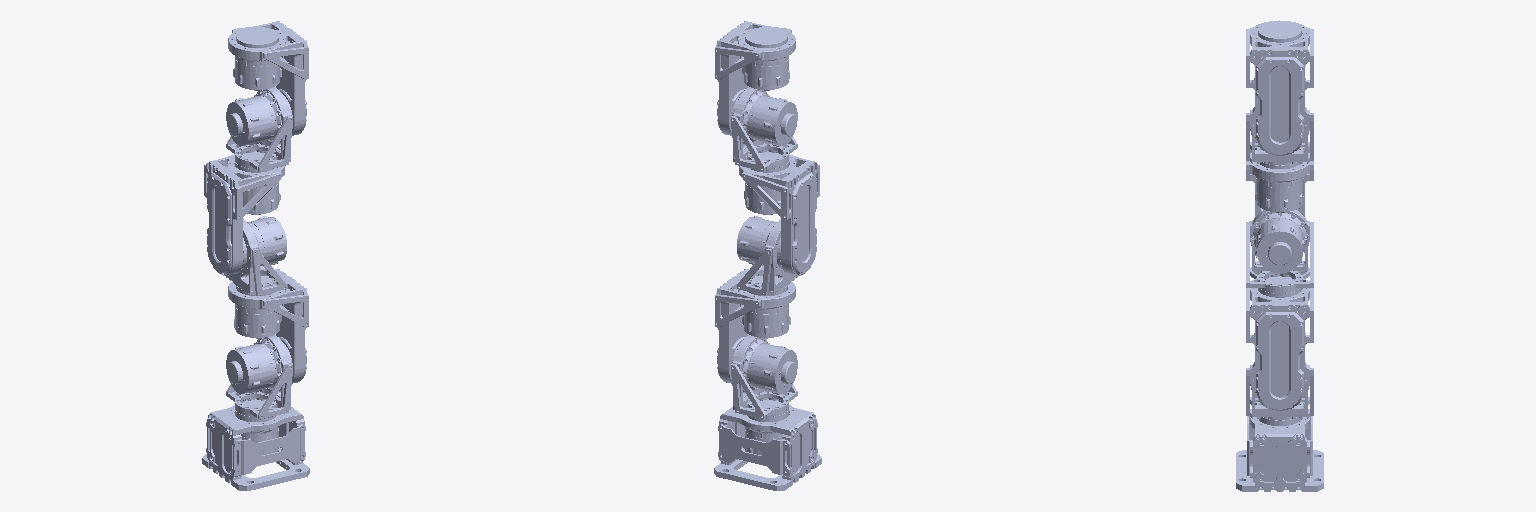
The robot description file, URDF, robot "robot_arm":
<?xml version="1.0" encoding="utf-8"?>
<!-- This URDF was automatically created by SolidWorks to URDF Exporter! Originally created by [author] ([email redacted]) 
     Commit Version: 1.6.0-4-g7f85cfe  Build Version: 1.6.7995.38578
     For more information, please see http://wiki.ros.org/sw_urdf_exporter -->
<robot
  name="robot_arm">
  <link
    name="base_link">
    <inertial>
      <origin
        xyz="0.069162 0.065135 0.20892"
        rpy="0 0 0" />
      <mass
        value="0.66309" />
      <inertia
        ixx="0.00073203"
        ixy="1.8952E-15"
        ixz="-5.1066E-10"
        iyy="0.00085803"
        iyz="-1.0534E-15"
        izz="0.00078139" />
    </inertial>
    <visual>
      <origin
        xyz="0 0 0"
        rpy="0 0 0" />
      <geometry>
        <mesh
          filename="package://robot_arm/meshes/base_link.STL" />
      </geometry>
      <material
        name="">
        <color
          rgba="0.79216 0.81961 0.93333 1" />
      </material>
    </visual>
    <collision>
      <origin
        xyz="0 0 0"
        rpy="0 0 0" />
      <geometry>
        <mesh
          filename="package://robot_arm/meshes/base_link.STL" />
      </geometry>
    </collision>
  </link>
  <link
    name="link_1">
    <inertial>
      <origin
        xyz="0.0076561 0.06612 -1.5266E-07"
        rpy="0 0 0" />
      <mass
        value="0.44894" />
      <inertia
        ixx="0.00037455"
        ixy="-6.3658E-06"
        ixz="-6.4411E-14"
        iyy="0.00040652"
        iyz="-1.7327E-09"
        izz="0.0004125" />
    </inertial>
    <visual>
      <origin
        xyz="0 0 0"
        rpy="0 0 0" />
      <geometry>
        <mesh
          filename="package://robot_arm/meshes/link_1.STL" />
      </geometry>
      <material
        name="">
        <color
          rgba="0.79216 0.81961 0.93333 1" />
      </material>
    </visual>
    <collision>
      <origin
        xyz="0 0 0"
        rpy="0 0 0" />
      <geometry>
        <mesh
          filename="package://robot_arm/meshes/link_1.STL" />
      </geometry>
    </collision>
  </link>
  <joint
    name="joint_1"
    type="revolute">
    <origin
      xyz="0.069162 -0.20892 0.11841"
      rpy="1.5708 0 0" />
    <parent
      link="base_link" />
    <child
      link="link_1" />
    <axis
      xyz="0 1 0" />
    <limit
      lower="-3.1415926"
      upper="3.1415926"
      effort="50.0"
      velocity="10.0" />
  </joint>
  <link
    name="link_2">
    <inertial>
      <origin
        xyz="0.021945 0.098953 -7.9847E-08"
        rpy="0 0 0" />
      <mass
        value="0.58247" />
      <inertia
        ixx="0.00091809"
        ixy="-5.3857E-06"
        ixz="2.5866E-09"
        iyy="0.00047586"
        iyz="4.2711E-11"
        izz="0.00083079" />
    </inertial>
    <visual>
      <origin
        xyz="0 0 0"
        rpy="0 0 0" />
      <geometry>
        <mesh
          filename="package://robot_arm/meshes/link_2.STL" />
      </geometry>
      <material
        name="">
        <color
          rgba="0.79216 0.81961 0.93333 1" />
      </material>
    </visual>
    <collision>
      <origin
        xyz="0 0 0"
        rpy="0 0 0" />
      <geometry>
        <mesh
          filename="package://robot_arm/meshes/link_2.STL" />
      </geometry>
    </collision>
  </link>
  <joint
    name="joint_2"
    type="revolute">
    <origin
      xyz="0 0.073 0"
      rpy="0 0 0" />
    <parent
      link="link_1" />
    <child
      link="link_2" />
    <axis
      xyz="1 0 0" />
    <limit
      lower="-3.1415926"
      upper="3.1415926"
      effort="50.0"
      velocity="10.0" />
  </joint>
 
  <link
    name="link_3">
    <inertial>
      <origin
        xyz="-0.0076561 0.071348 1.2211E-07"
        rpy="0 0 0" />
      <mass
        value="0.44894" />
      <inertia
        ixx="0.00037455"
        ixy="6.3658E-06"
        ixz="-6.2902E-14"
        iyy="0.00040652"
        iyz="-2.591E-09"
        izz="0.0004125" />
    </inertial>
    <visual>
      <origin
        xyz="0 0 0"
        rpy="0 0 0" />
      <geometry>
        <mesh
          filename="package://robot_arm/meshes/link_3.STL" />
      </geometry>
      <material
        name="">
        <color
          rgba="0.79216 0.81961 0.93333 1" />
      </material>
    </visual>
    <collision>
      <origin
        xyz="0 0 0"
        rpy="0 0 0" />
      <geometry>
        <mesh
          filename="package://robot_arm/meshes/link_3.STL" />
      </geometry>
    </collision>
  </link>
  <joint
    name="joint_3"
    type="revolute">
    <origin
      xyz="0.003 0.14577 0"
      rpy="0 0 0" />
    <parent
      link="link_2" />
    <child
      link="link_3" />
    <axis
      xyz="0 1 0" />
    <limit
      lower="-3.1415926"
      upper="3.1415926"
      effort="50.0"
      velocity="10.0" />
  </joint>
  <link
    name="link_4">
    <inertial>
      <origin
        xyz="-0.021945 0.098953 -4.2218E-08"
        rpy="0 0 0" />
      <mass
        value="0.58247" />
      <inertia
        ixx="0.00091809"
        ixy="5.3857E-06"
        ixz="-1.7371E-09"
        iyy="0.00047586"
        iyz="-4.2713E-11"
        izz="0.00083079" />
    </inertial>
    <visual>
      <origin
        xyz="0 0 0"
        rpy="0 0 0" />
      <geometry>
        <mesh
          filename="package://robot_arm/meshes/link_4.STL" />
      </geometry>
      <material
        name="">
        <color
          rgba="0.79216 0.81961 0.93333 1" />
      </material>
    </visual>
    <collision>
      <origin
        xyz="0 0 0"
        rpy="0 0 0" />
      <geometry>
        <mesh
          filename="package://robot_arm/meshes/link_4.STL" />
      </geometry>
    </collision>
  </link>
  <joint
    name="joint_4"
    type="revolute">
    <origin
      xyz="0 0.078228 0"
      rpy="0 0 0" />
    <parent
      link="link_3" />
    <child
      link="link_4" />
    <axis
      xyz="1 0 0" />
    <limit
      lower="-3.1415926"
      upper="3.1415926"
      effort="50.0"
      velocity="10.0" />
  </joint>
  <link
    name="link_5">
    <inertial>
      <origin
        xyz="0.0076561 0.06612 -1.5266E-07"
        rpy="0 0 0" />
      <mass
        value="0.44894" />
      <inertia
        ixx="0.00037455"
        ixy="-6.3658E-06"
        ixz="-6.4411E-14"
        iyy="0.00040652"
        iyz="-1.7327E-09"
        izz="0.0004125" />
    </inertial>
    <visual>
      <origin
        xyz="0 0 0"
        rpy="0 0 0" />
      <geometry>
        <mesh
          filename="package://robot_arm/meshes/link_5.STL" />
      </geometry>
      <material
        name="">
        <color
          rgba="0.79216 0.81961 0.93333 1" />
      </material>
    </visual>
    <collision>
      <origin
        xyz="0 0 0"
        rpy="0 0 0" />
      <geometry>
        <mesh
          filename="package://robot_arm/meshes/link_5.STL" />
      </geometry>
    </collision>
  </link>
  <joint
    name="joint_5"
    type="revolute">
    <origin
      xyz="-0.003 0.151 0"
      rpy="0 0 0" />
    <parent
      link="link_4" />
    <child
      link="link_5" />
    <axis
      xyz="0 1 0" />
    <limit
      lower="-3.1415926"
      upper="3.1415926"
      effort="50.0"
      velocity="10.0" />
  </joint>
  <link
    name="link_6">
    <inertial>
      <origin
        xyz="0.050478 0.08437 3.9628E-09"
        rpy="0 0 0" />
      <mass
        value="0.23241" />
      <inertia
        ixx="0.0006035"
        ixy="-5.3857E-06"
        ixz="-3.3767E-12"
        iyy="0.00024562"
        iyz="4.2713E-11"
        izz="0.00051619" />
    </inertial>
    <visual>
      <origin
        xyz="0 0 0"
        rpy="0 0 0" />
      <geometry>
        <mesh
          filename="package://robot_arm/meshes/link_6.STL" />
      </geometry>
      <material
        name="">
        <color
          rgba="0.79216 0.81961 0.93333 1" />
      </material>
    </visual>
    <collision>
      <origin
        xyz="0 0 0"
        rpy="0 0 0" />
      <geometry>
        <mesh
          filename="package://robot_arm/meshes/link_6.STL" />
      </geometry>
    </collision>
  </link>
  <joint
    name="joint_6"
    type="revolute">
    <origin
      xyz="0 0.073 0"
      rpy="0 0 0" />
    <parent
      link="link_5" />
    <child
      link="link_6" />
    <axis
      xyz="1 0 0" />
    <limit
      lower="-3.1415926"
      upper="3.1415926"
      effort="50.0"
      velocity="10.0" />
  </joint>

  <link
    name="link_hand">
    <inertial>
      <origin
        xyz="0.0030002 0.10863 6.7617E-08"
        rpy="0 0 0" />
      <mass
        value="0.35005" />
      <inertia
        ixx="0.0003146"
        ixy="2.1023E-15"
        ixz="-1.7338E-09"
        iyy="0.00023023"
        iyz="-5.1668E-16"
        izz="0.0003146" />
    </inertial>
    <visual>
      <origin
        xyz="0 0 0"
        rpy="0 0 0" />
      <geometry>
        <mesh
          filename="package://robot_arm/meshes/link_hand.STL" />
      </geometry>
      <material
        name="">
        <color
          rgba="0.79216 0.81961 0.93333 1" />
      </material>
    </visual>
    <collision>
      <origin
        xyz="0 0 0"
        rpy="0 0 0" />
      <geometry>
        <mesh
          filename="package://robot_arm/meshes/link_hand.STL" />
      </geometry>
    </collision>
  </link>
  <joint
    name="joint_7"
    type="fixed">
    <origin
      xyz="0 0 0"
      rpy="0 0 0" />
    <parent
      link="link_6" />
    <child
      link="link_hand" />
    <axis
      xyz="0 1 0" />
    <limit
      lower="-3.1415926"
      upper="3.1415926"
      effort="50.0"
      velocity="10.0" />
  </joint>

</robot>

--- Render facts (derived) ---
Views: 3 orthographic renders of the robot side by side, from view 1: azimuth 30°, elevation 25°; view 2: azimuth 150°, elevation 25°; view 3: azimuth 270°, elevation 25°.
Model robot_arm with 8 links and 7 joints (6 revolute, 1 fixed), rooted at base_link, posed every joint at zero.
Links seen in each view (by area): view 1: base_link, link_4, link_2, link_1, link_5, link_6, link_3, link_hand; view 2: base_link, link_4, link_2, link_1, link_5, link_6, link_3, link_hand; view 3: link_2, link_6, base_link, link_3, link_4, link_1, link_5, link_hand.
Link boxes in pixels (x1,y1,x2,y2): base_link: (202,399,309,490); link_4: (204,151,284,275); link_2: (228,269,308,383); link_1: (226,335,292,419); link_5: (226,87,292,171); link_6: (228,21,308,135); link_3: (223,216,286,295); link_hand: (233,27,281,90); base_link: (714,399,821,490); link_4: (739,151,819,275); link_2: (715,269,795,383); link_1: (731,335,797,419); link_5: (731,87,797,171); link_6: (715,21,795,135); link_3: (737,216,800,295); link_hand: (742,27,789,90); link_2: (1246,276,1313,410); link_6: (1246,21,1313,155); base_link: (1236,416,1323,491); link_3: (1246,210,1313,293); link_4: (1246,149,1313,216); link_1: (1246,362,1313,420); link_5: (1246,107,1313,165); link_hand: (1256,20,1303,46).
Bounding box of the posed robot: 0.149 × 0.14 × 0.7814 m (x, y, z).
8 mesh visuals loaded from 8 distinct referenced files (8 binary STL).